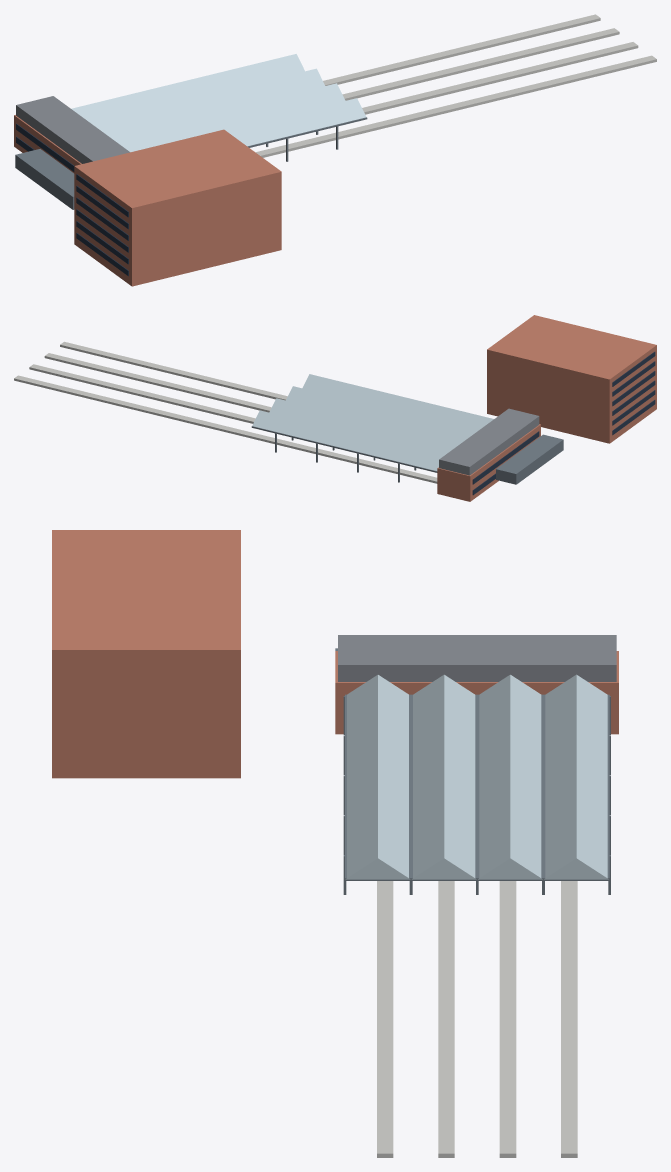
Rendered from terminal_marylebone.glb.
3 views of the same model, one above another, from view 1: azimuth 30°, elevation 25°; view 2: azimuth 150°, elevation 25°; view 3: azimuth 270°, elevation 25° (orthographic). The views are drawn at different scales.
Parts seen in each view (by area): view 1: marylebone; view 2: marylebone; view 3: marylebone.
Part boxes in pixels (x1=…): marylebone: x1=14, y1=14, x2=656, y2=286; marylebone: x1=14, y1=315, x2=656, y2=501; marylebone: x1=52, y1=530, x2=618, y2=1157.
Bounding box in the file's own units: 250 × 30 × 120.
